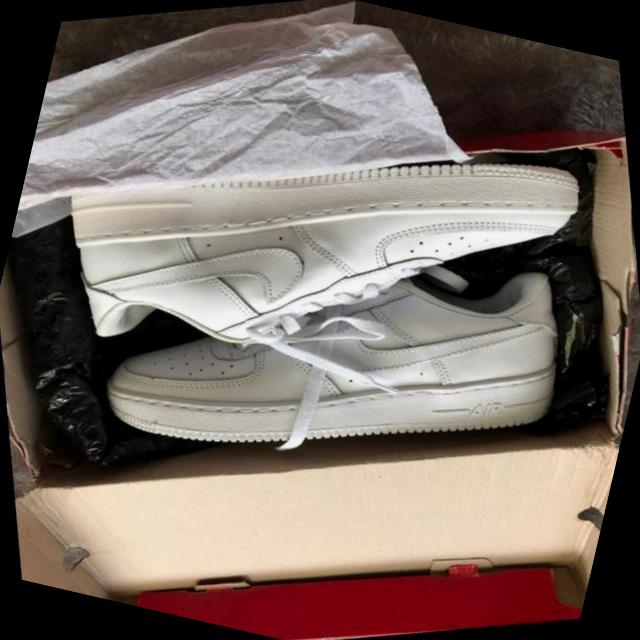nike_fake_airforce: (0, 23, 629, 479), (61, 164, 616, 565)
